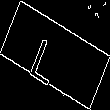L_NE: (36, 26, 74, 84)
